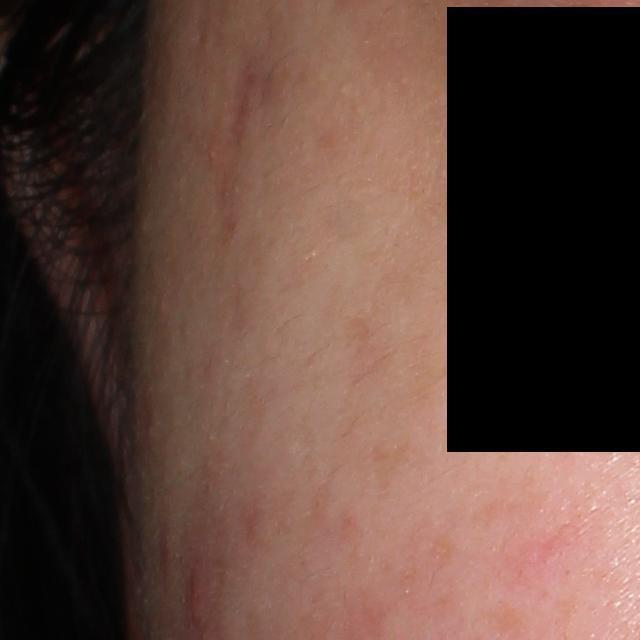melasma: (342, 261, 502, 422), (369, 437, 427, 512), (425, 532, 463, 569)
papule: (185, 557, 207, 624)
